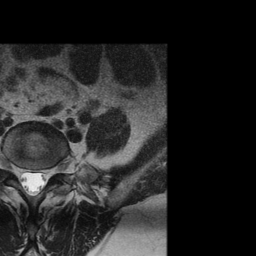CCS_normal: (28, 162, 37, 201)
LFS_normal: (47, 156, 57, 183)
LLS_normal: (37, 159, 47, 195)
RFS_normal: (9, 153, 19, 184)
RLS_normal: (19, 160, 28, 199)
